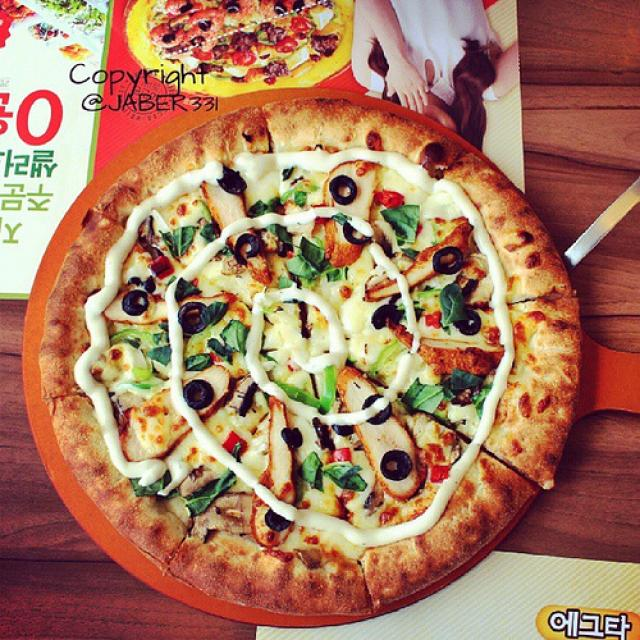Wet Waste: (33, 91, 587, 625)
